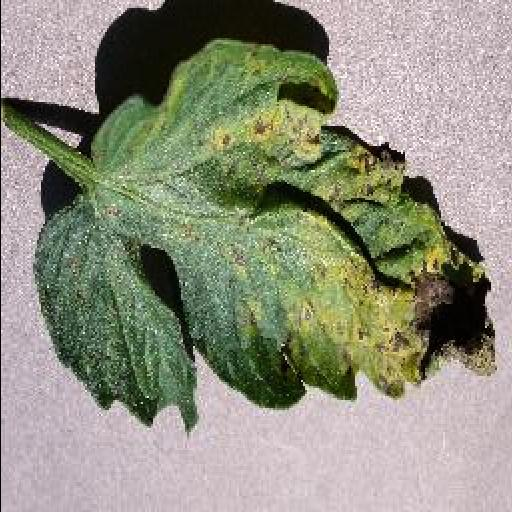disease_tomato: (36, 40, 498, 438)
